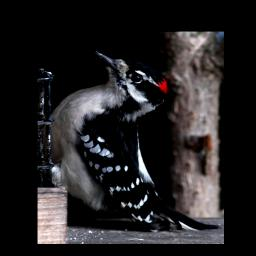Woodpecker: (43, 51, 221, 231)
